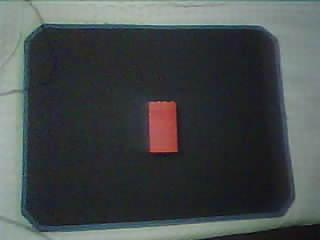lego: (144, 101, 179, 153)
